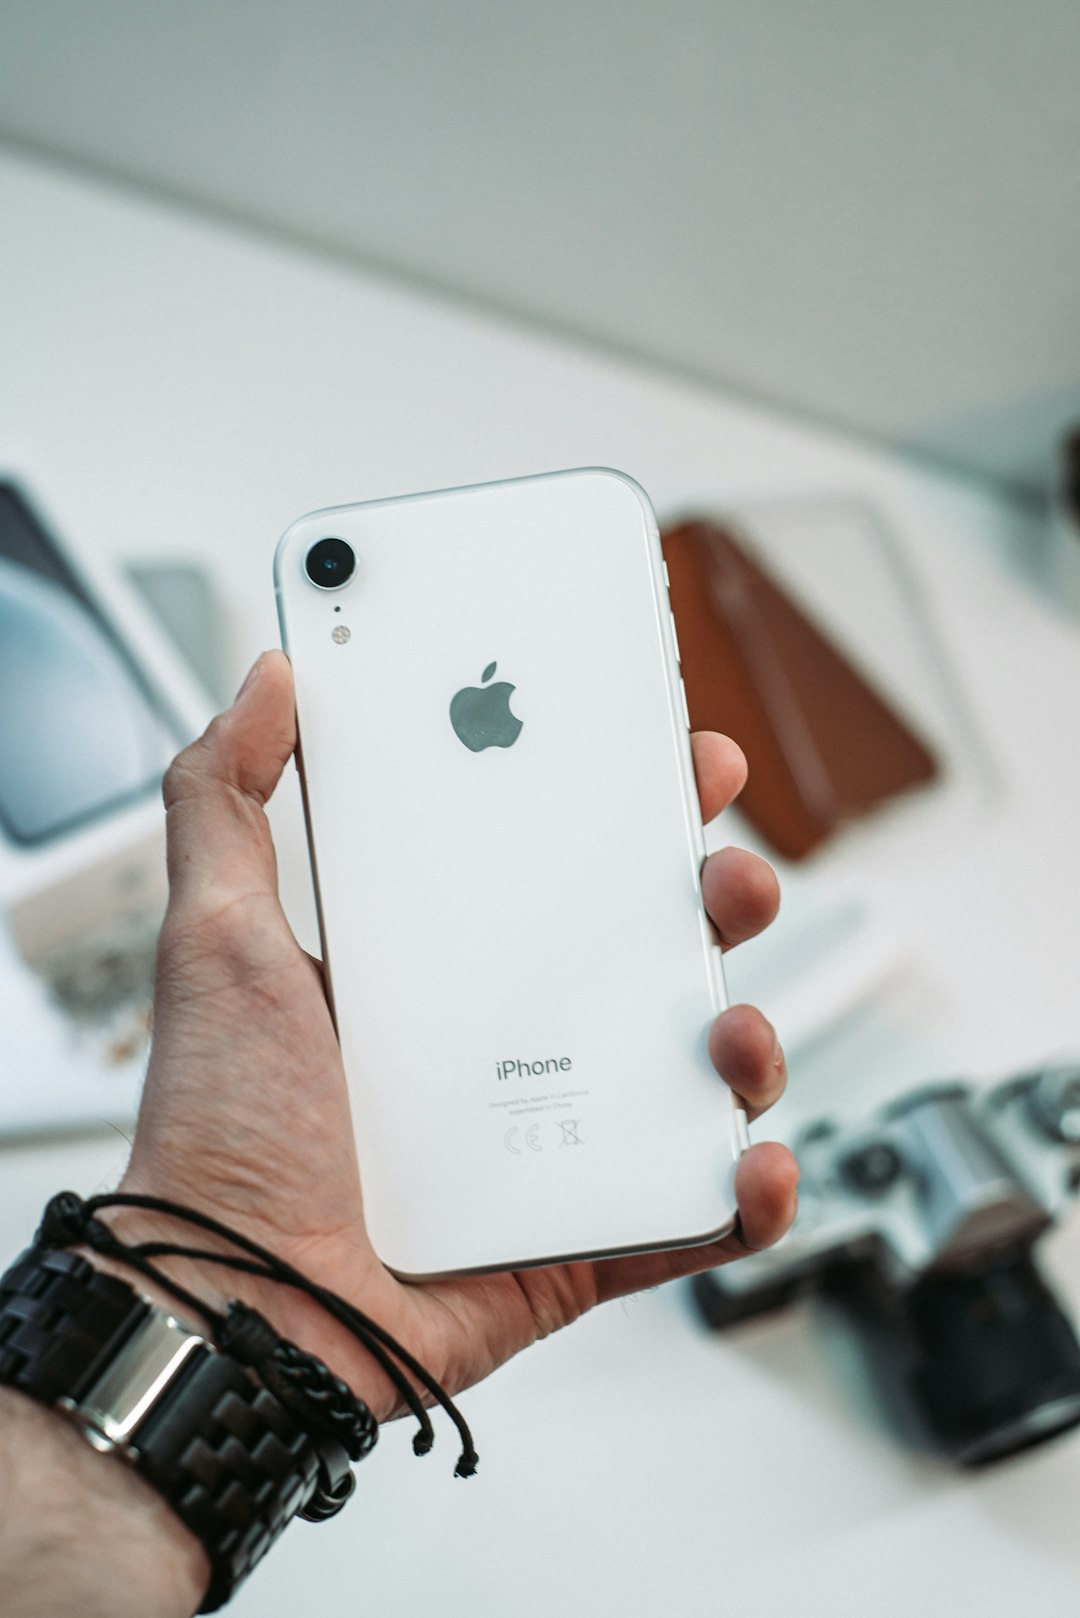phone: (271, 469, 759, 1284)
